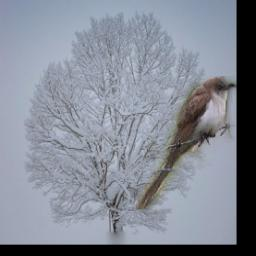Cuckoo: (135, 76, 236, 210)
